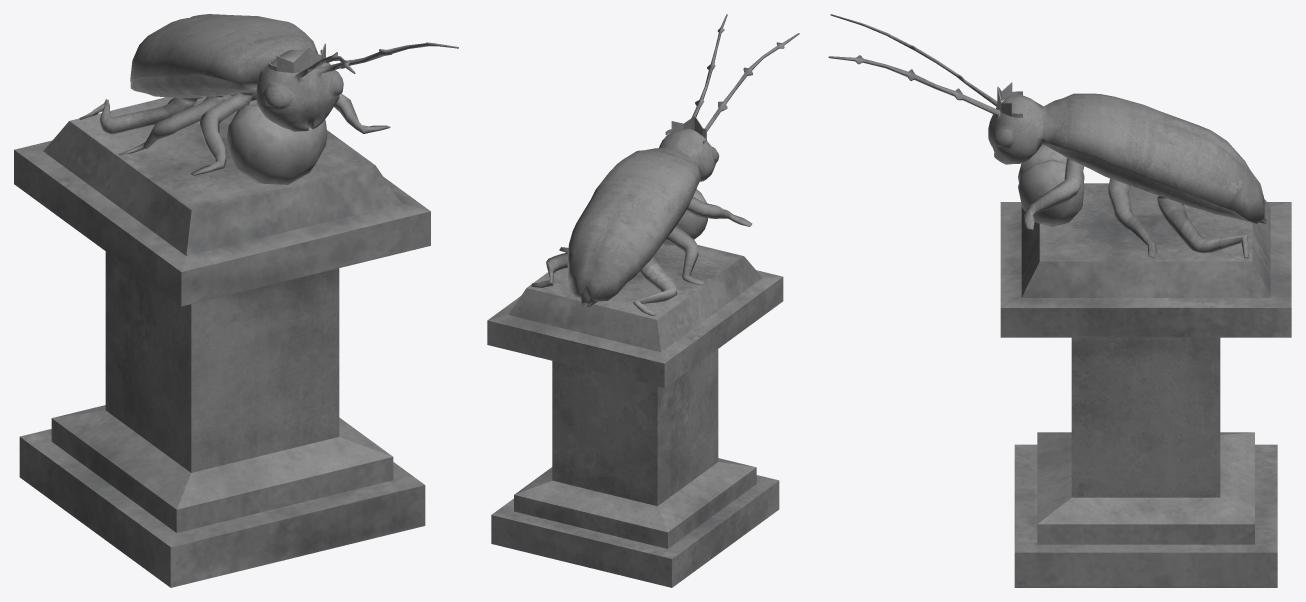
File: 3DObj_Statue.fbx
3 views of the same model, side by side, from view 1: azimuth 30°, elevation 25°; view 2: azimuth 150°, elevation 25°; view 3: azimuth 270°, elevation 25° (orthographic). The views are drawn at different scales.
Parts seen in each view (by area): view 1: 3DObj_Statue; view 2: 3DObj_Statue; view 3: 3DObj_Statue.
Boxes of the visible parts, x1,y1,x2,y2 form: 3DObj_Statue: (14,14,458,587); 3DObj_Statue: (487,14,799,587); 3DObj_Statue: (828,14,1291,587).
Bounding box in the file's own units: 107 × 231 × 194.
1 material, 1 textured.
